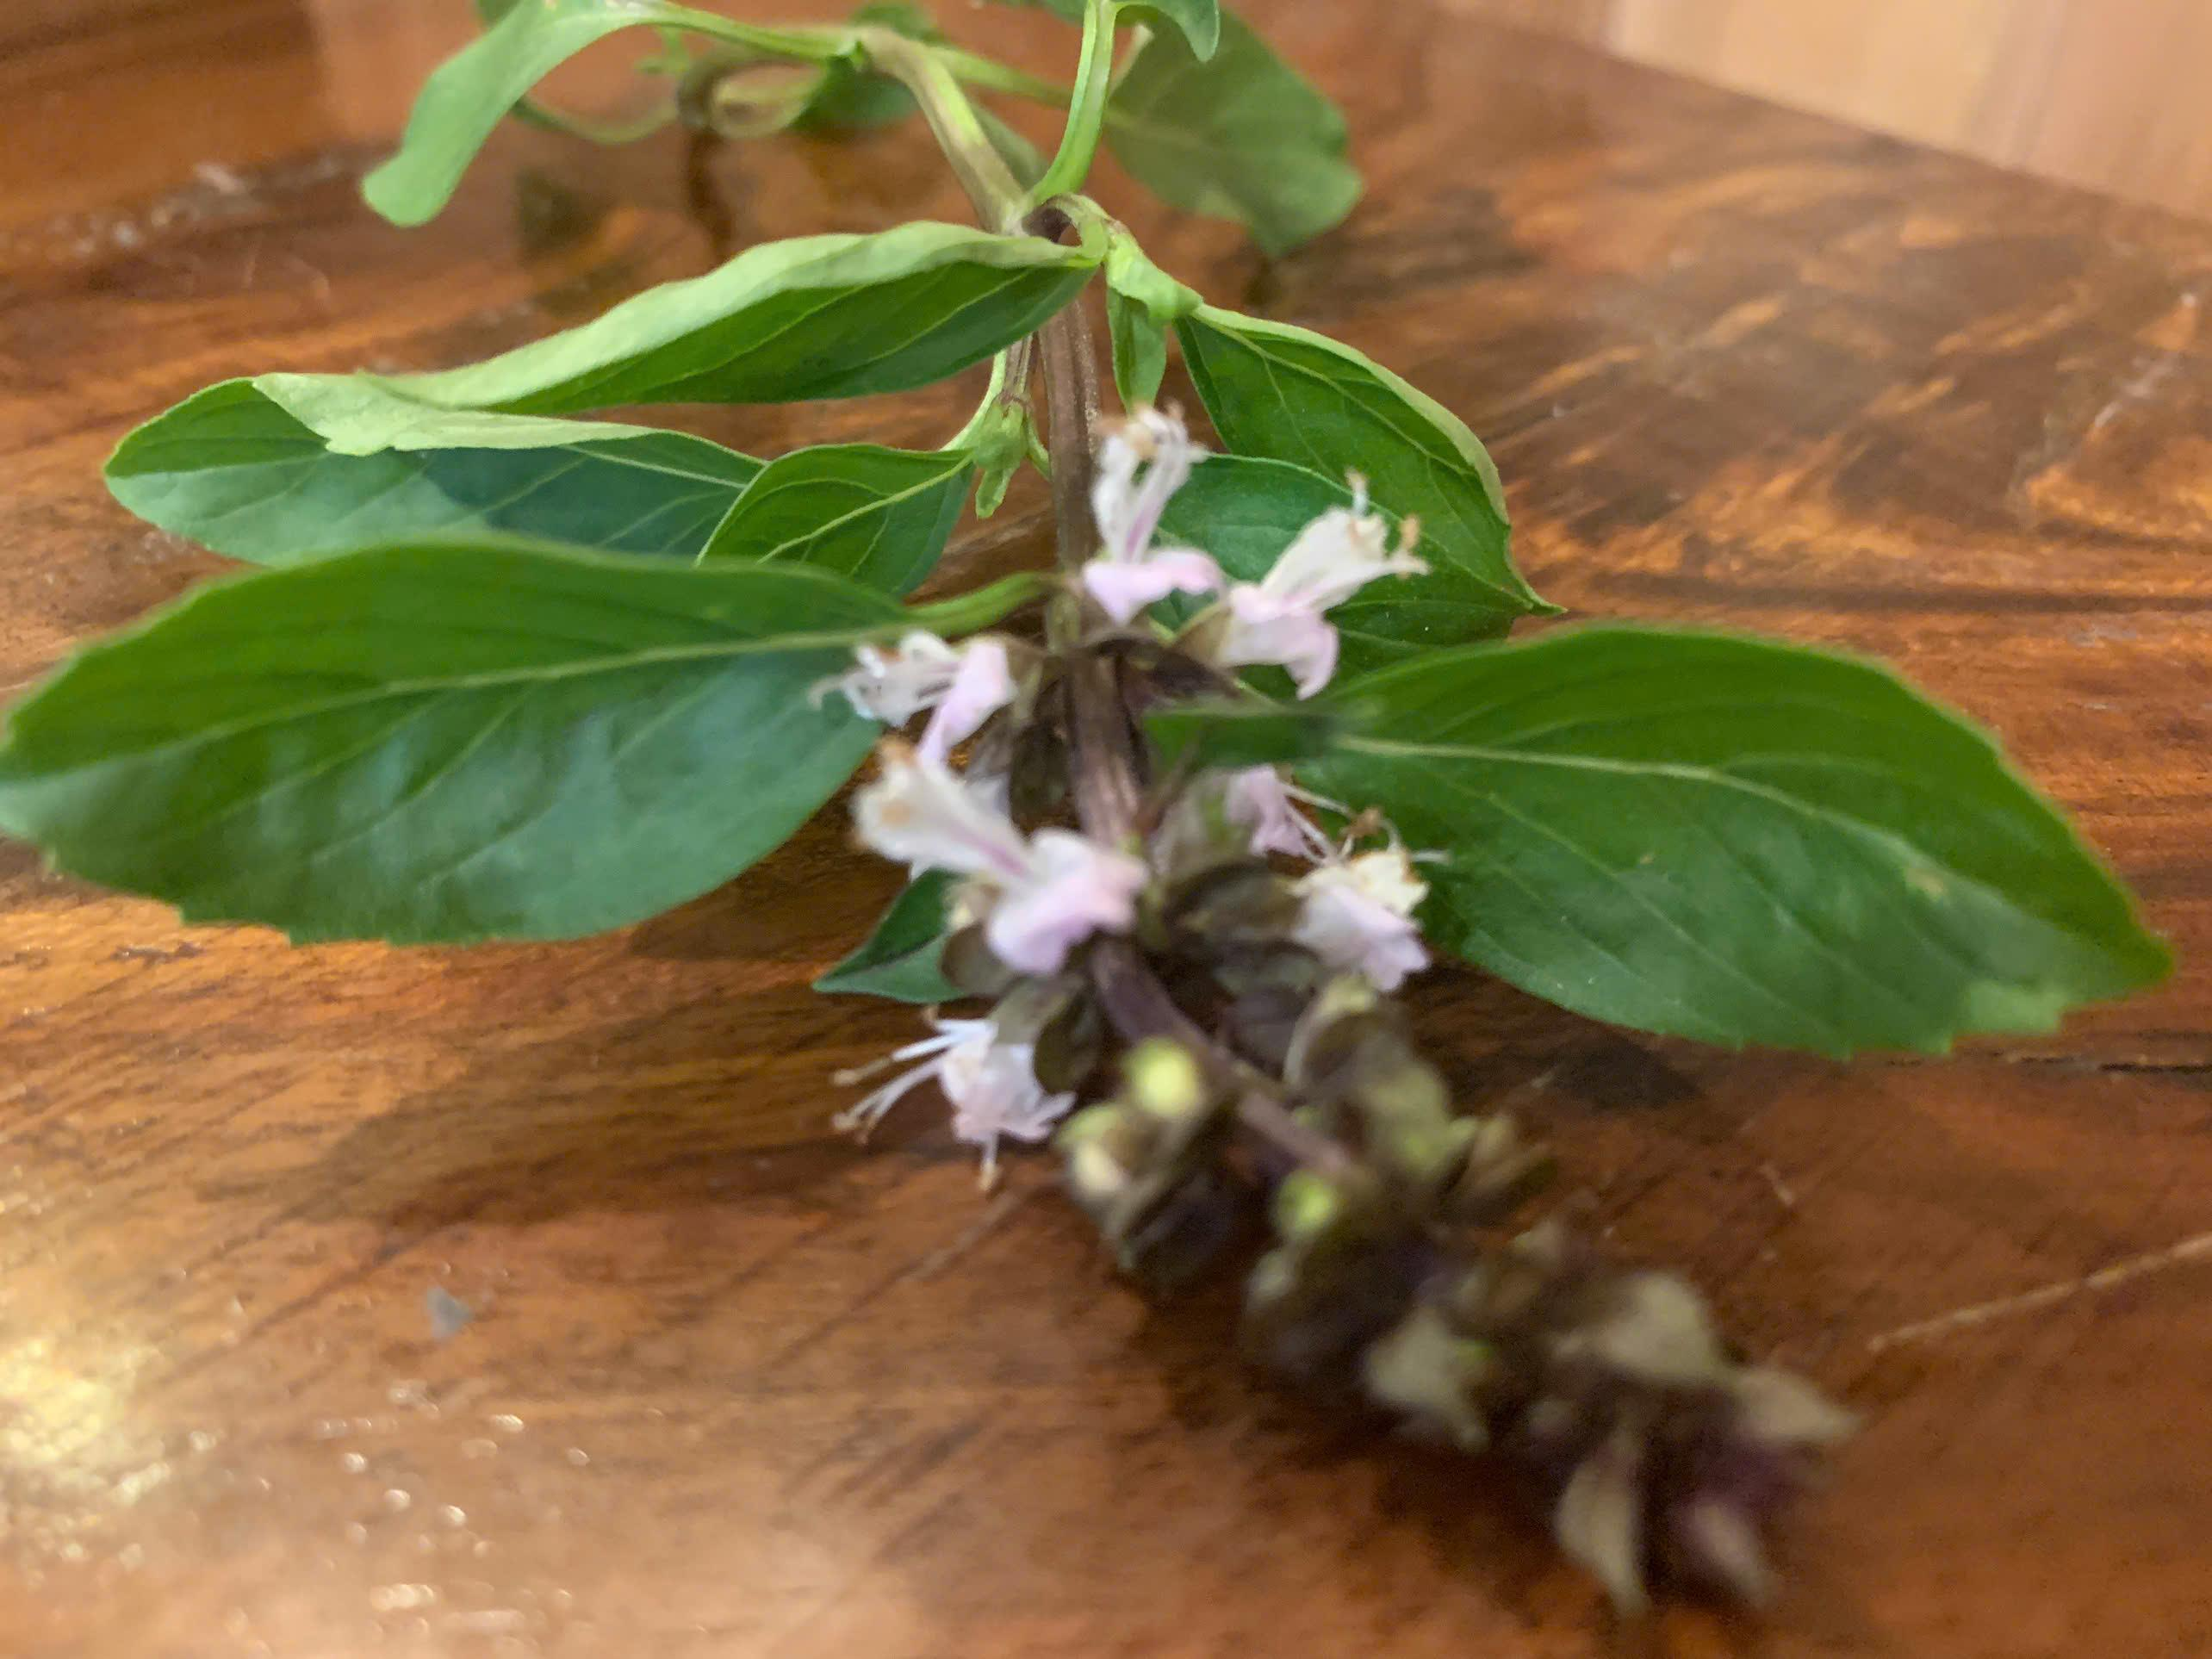Huu co: (26, 106, 2151, 1056)
